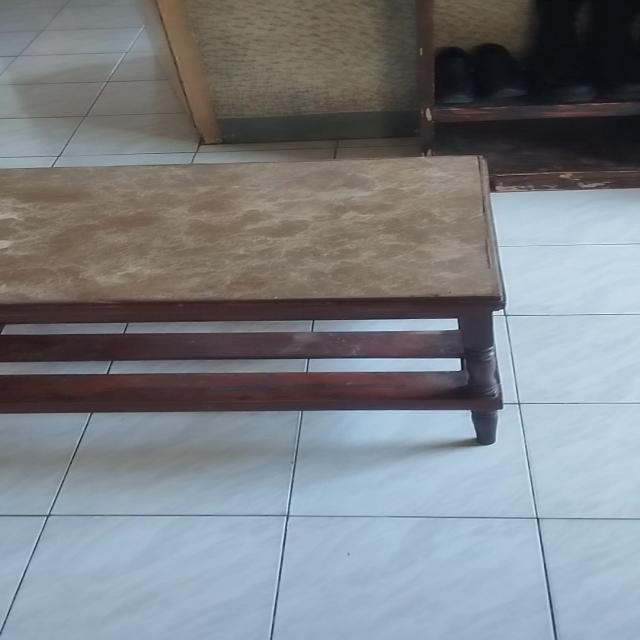table: (0, 152, 528, 447)
